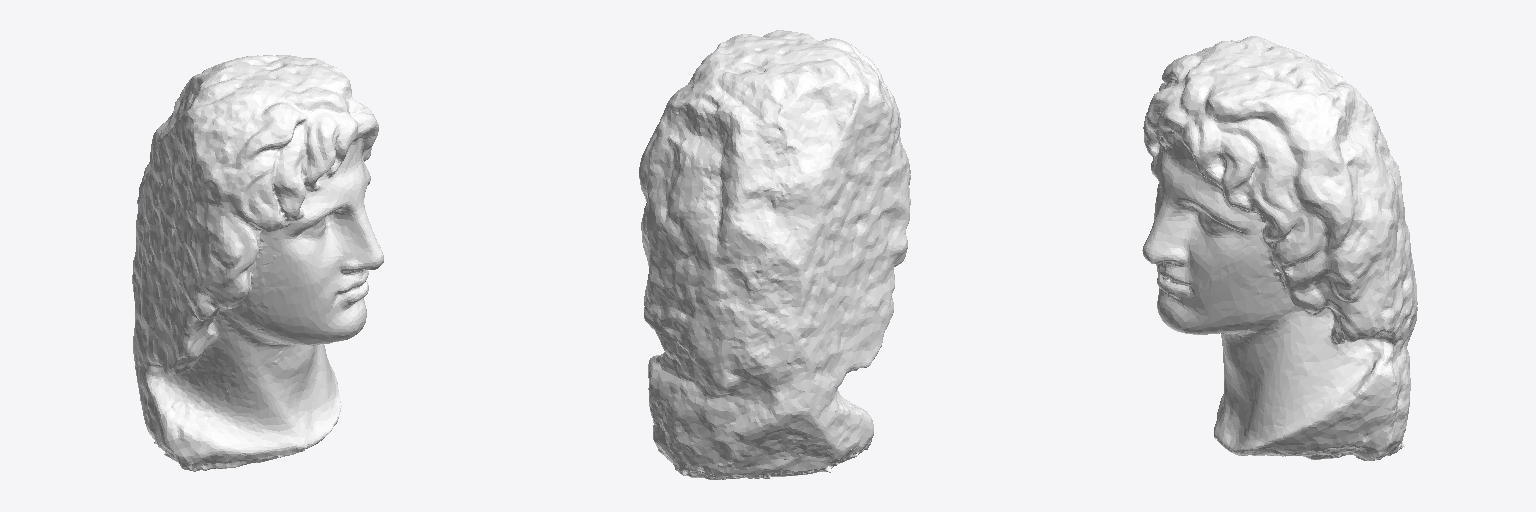
Rendered from alexander.obj.
The picture shows the model from 3 angles: view 1: azimuth 30°, elevation 25°; view 2: azimuth 150°, elevation 25°; view 3: azimuth 270°, elevation 25°; orthographic projection.
Parts seen in each view (by area): view 1: alexander; view 2: alexander; view 3: alexander.
Part boxes in pixels (left/top/right/bottom): alexander: left=132, top=55, right=383, bottom=471; alexander: left=639, top=30, right=910, bottom=479; alexander: left=1142, top=36, right=1417, bottom=460.
Size of the model in its own units: 2.96 by 5.47 by 3.52.